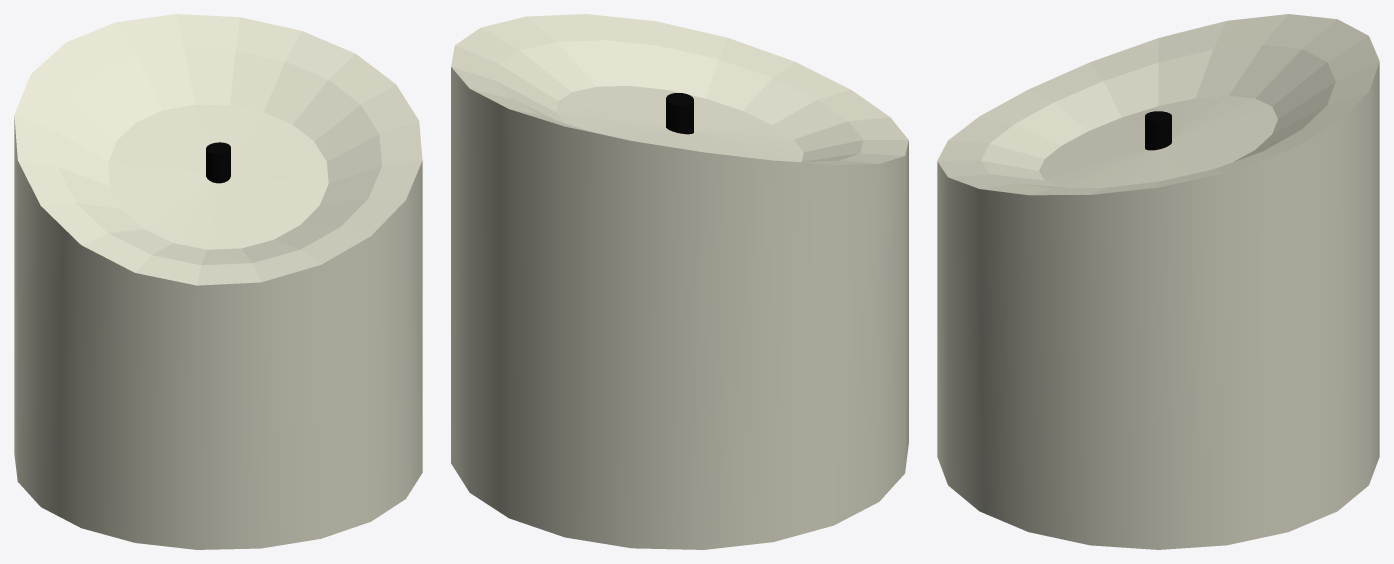
Rendered from Candle_Low.fbx.
3 views of the same model, side by side, from view 1: azimuth 30°, elevation 25°; view 2: azimuth 150°, elevation 25°; view 3: azimuth 270°, elevation 25° (orthographic). The views are drawn at different scales.
Parts seen in each view (by area): view 1: Candle_Low; view 2: Candle_Low; view 3: Candle_Low.
Part boxes in pixels (box(x1,y1,x2,y2)): Candle_Low: box(14, 14, 422, 549); Candle_Low: box(451, 14, 908, 549); Candle_Low: box(937, 14, 1379, 549).
Size of the model in its own units: 10.02 by 9.87 by 10.02.
